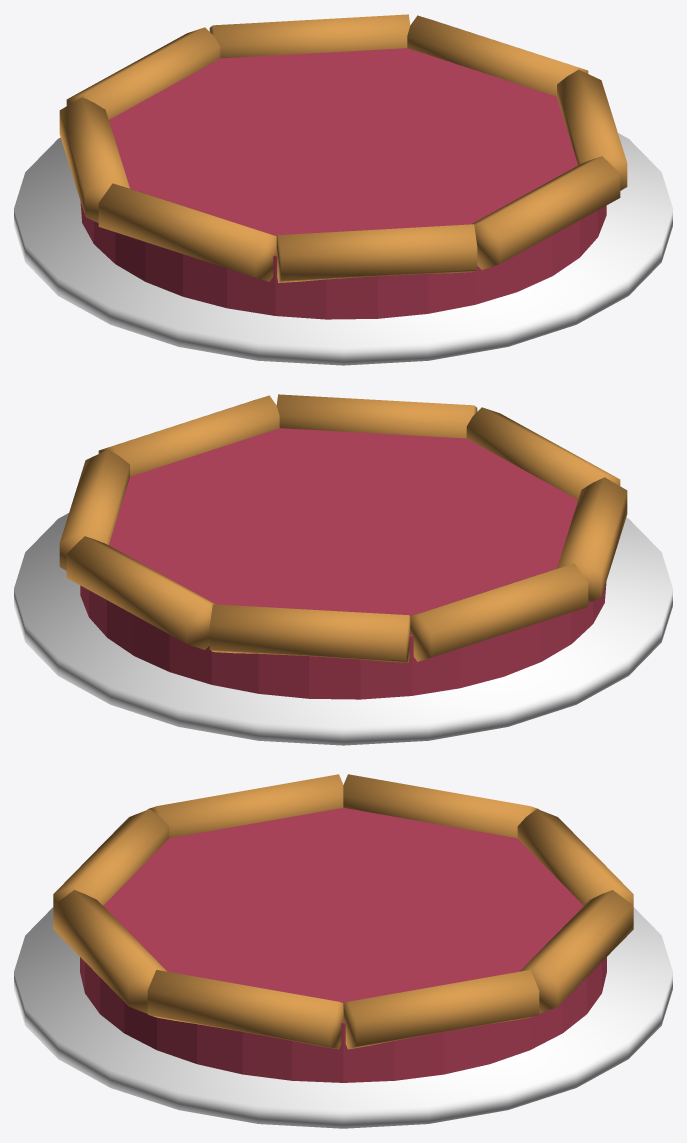
File: pie.glb
The picture shows the model from 3 angles, top to bottom: view 1: azimuth 30°, elevation 25°; view 2: azimuth 150°, elevation 25°; view 3: azimuth 270°, elevation 25°; orthographic projection.
Parts seen in each view (by area): view 1: pie-plate, slice-5, slice-4, slice-6, slice-3, slice-5-crust, slice-7, slice-0, slice-2, slice-1, slice-4-crust, slice-6-crust (+5 smaller); view 2: pie-plate, slice-2, slice-3, slice-1, slice-4, slice-2-crust, slice-0, slice-7, slice-5, slice-6, slice-3-crust, slice-1-crust (+5 smaller); view 3: pie-plate, slice-0, slice-7, slice-1, slice-6, slice-0-crust, slice-7-crust, slice-3, slice-4, slice-2, slice-5, slice-1-crust (+5 smaller).
Boxes of the visible parts, x1,y1,x2,y2 form: pie-plate: (14, 133, 672, 365); slice-5: (275, 149, 475, 319); slice-4: (115, 149, 342, 315); slice-6: (344, 148, 597, 304); slice-3: (80, 122, 342, 263); slice-5-crust: (276, 224, 477, 282); slice-7: (344, 96, 606, 236); slice-0: (343, 48, 555, 148); slice-2: (109, 58, 342, 148); slice-1: (220, 48, 406, 148); slice-4-crust: (98, 183, 276, 281); slice-6-crust: (472, 156, 620, 269); pie-plate: (14, 513, 672, 745); slice-2: (211, 529, 411, 699); slice-3: (344, 529, 571, 695); slice-1: (89, 528, 342, 684); slice-4: (344, 502, 606, 643); slice-2-crust: (209, 604, 410, 662); slice-0: (80, 476, 342, 616); slice-7: (131, 428, 343, 528); slice-5: (344, 438, 577, 528); slice-6: (280, 428, 466, 528); slice-3-crust: (410, 563, 588, 661); slice-1-crust: (66, 536, 214, 649); pie-plate: (14, 907, 672, 1128); slice-0: (343, 912, 529, 1082); slice-7: (157, 912, 343, 1082); slice-1: (344, 912, 606, 1049); slice-6: (80, 912, 342, 1049); slice-0-crust: (343, 970, 539, 1049); slice-7-crust: (147, 970, 343, 1049); slice-3: (343, 807, 516, 911); slice-4: (170, 808, 343, 911); slice-2: (344, 838, 583, 911); slice-5: (103, 838, 342, 911); slice-1-crust: (520, 890, 633, 1013).
Bounding box in the file's own units: 0.5 × 0.085 × 0.5.
